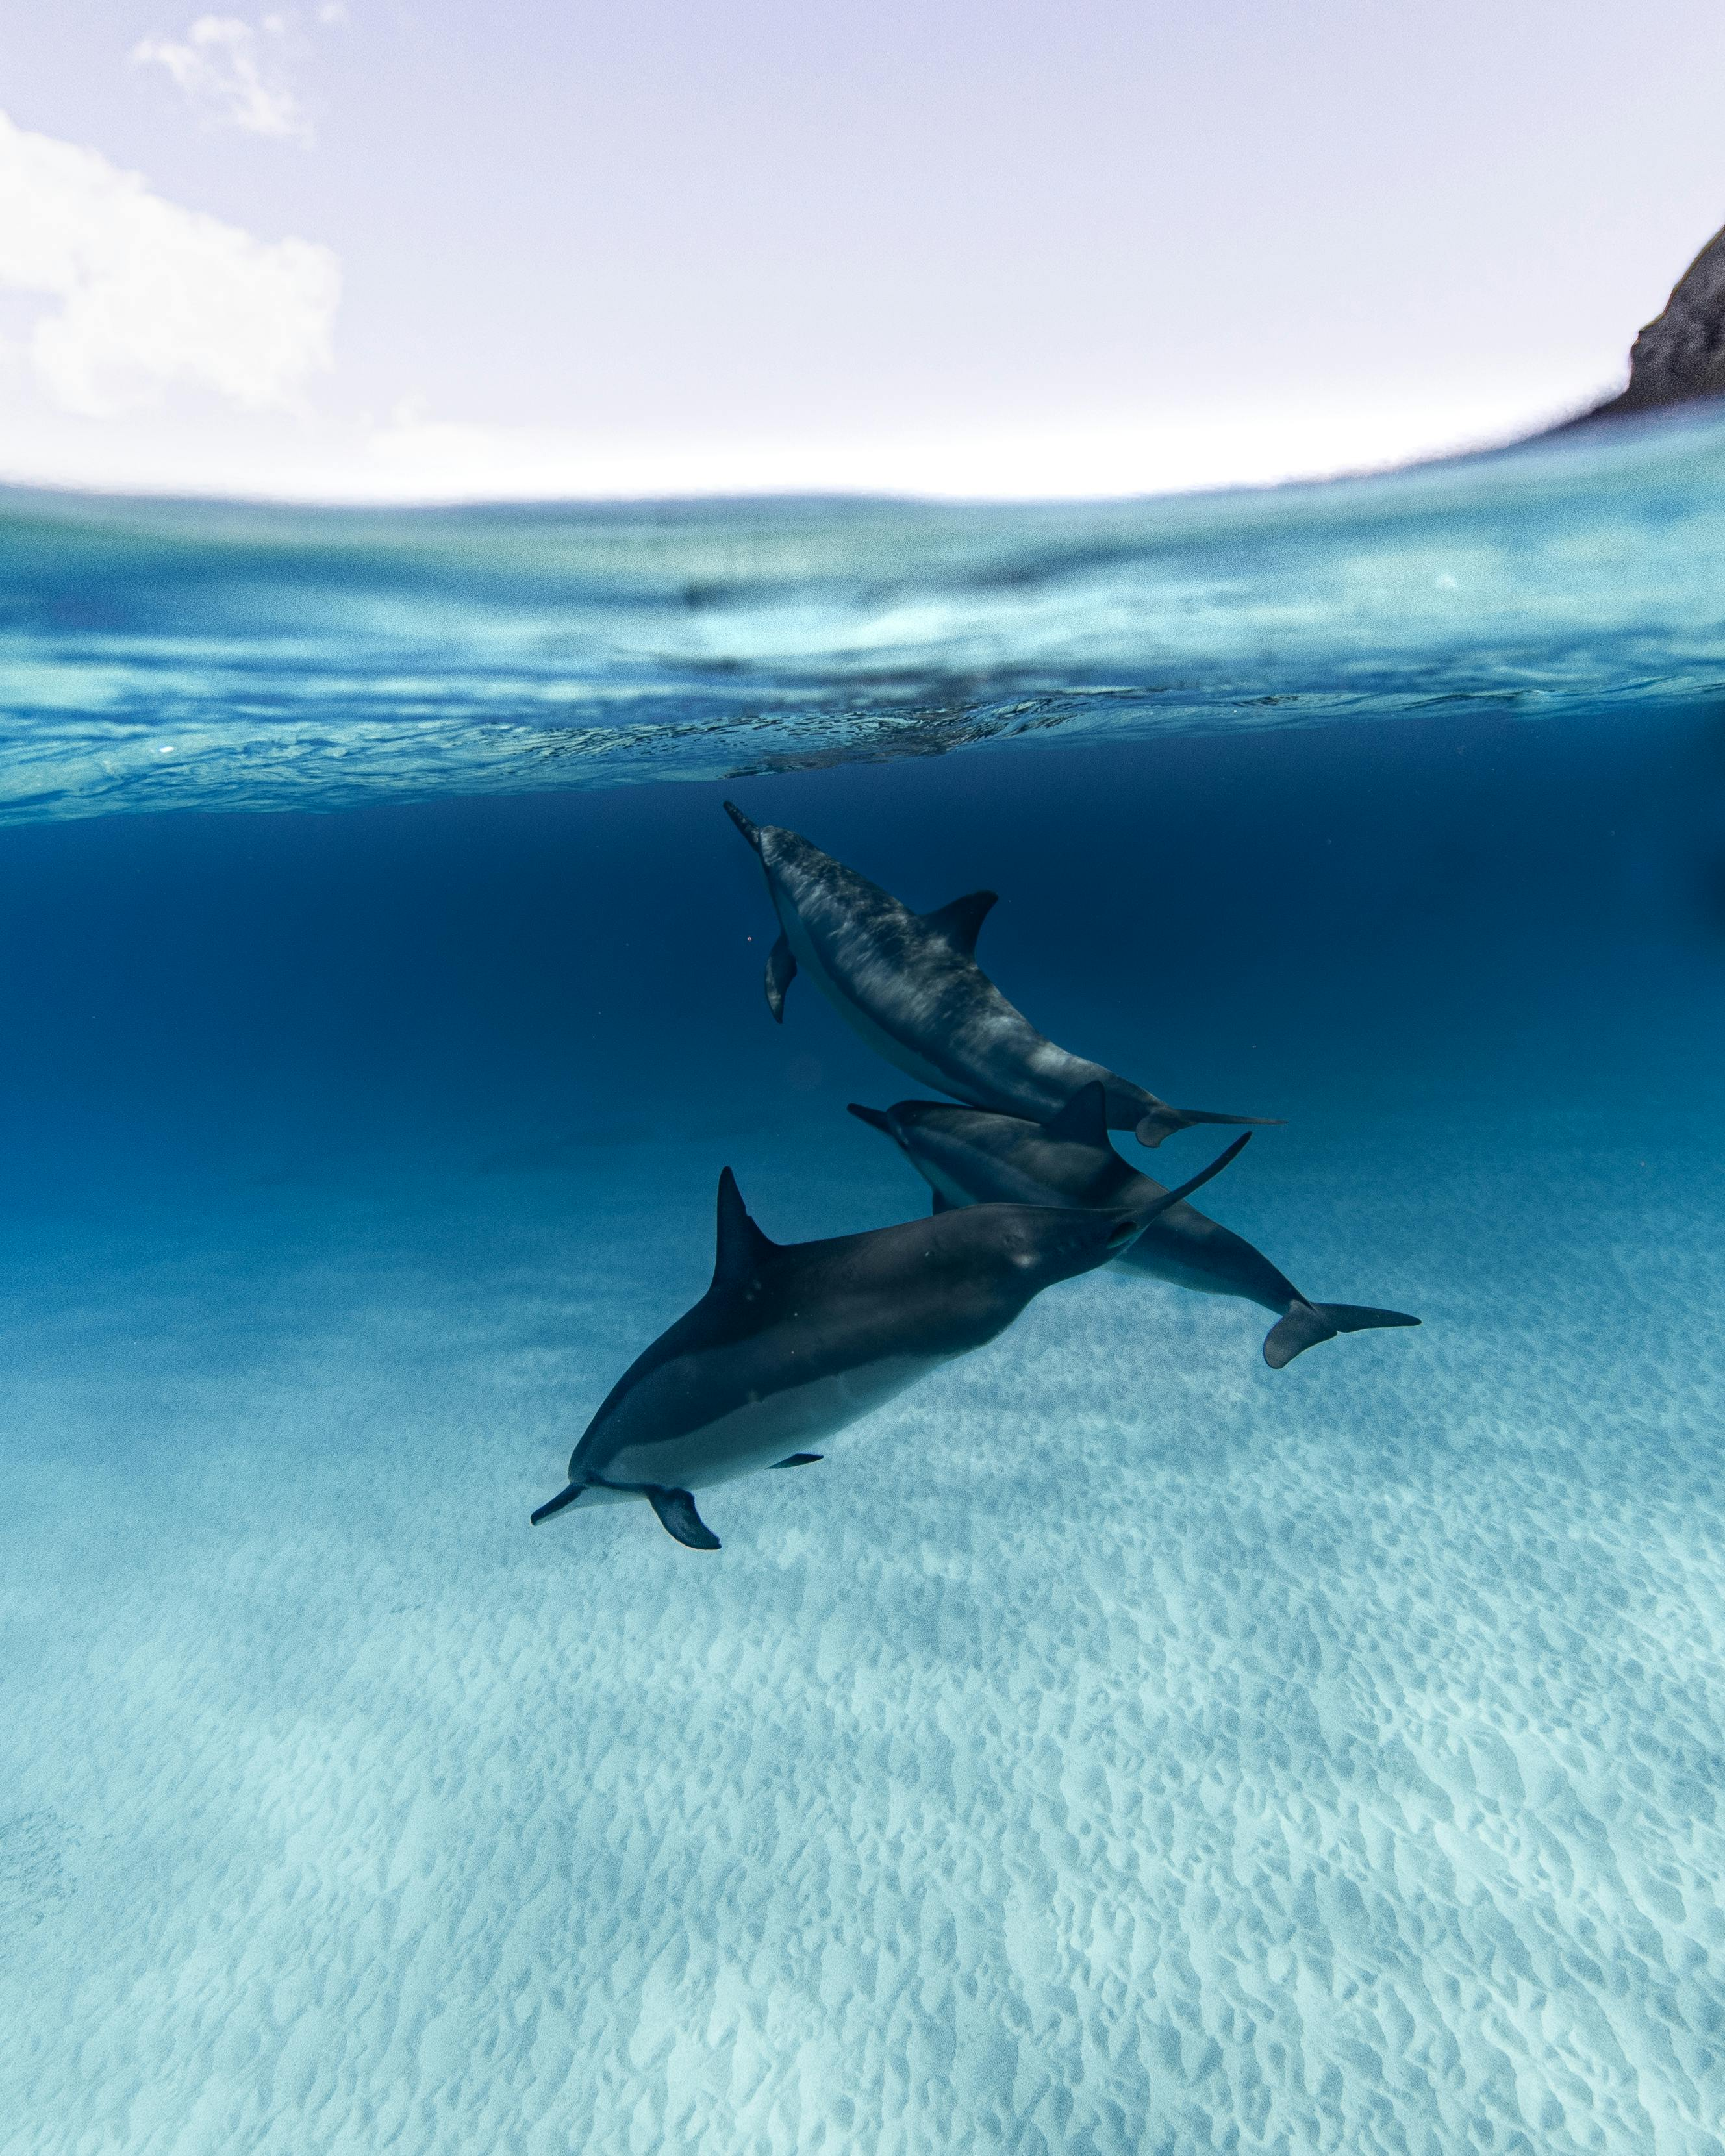dolphin: (526, 1132, 1253, 1556), (716, 794, 1288, 1155), (843, 1077, 1422, 1373)
